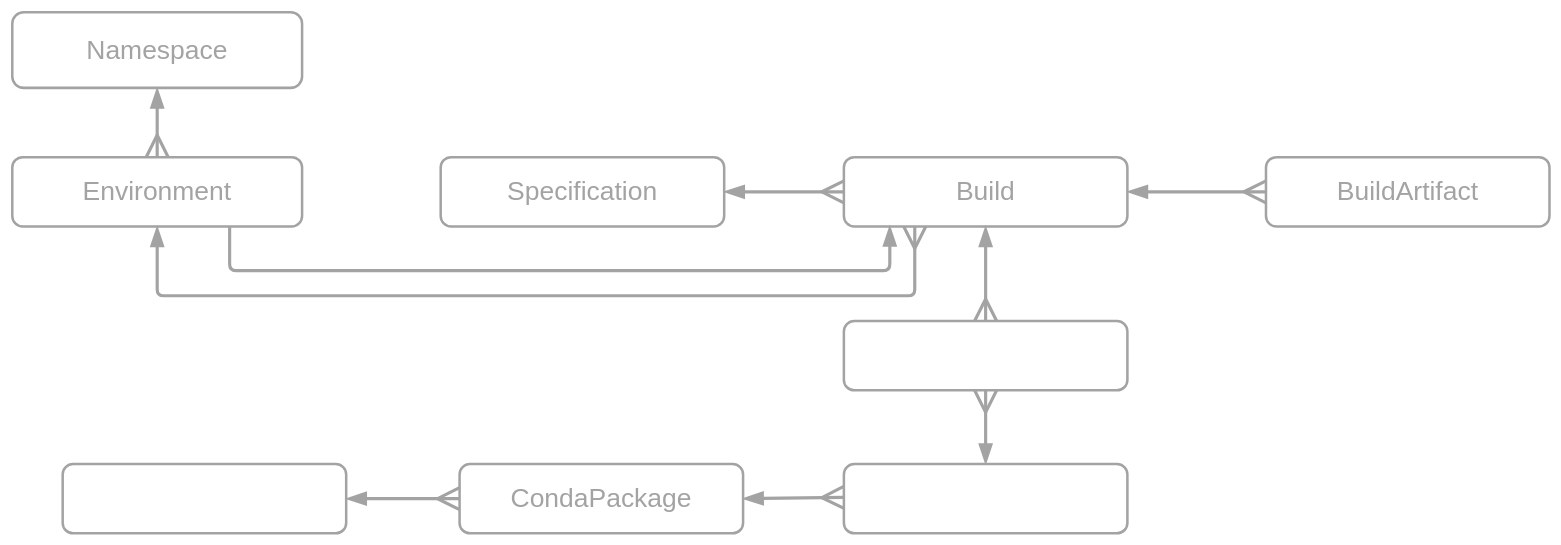
This 1561x545 diagram has some shape labels left out. The shapes that lost their labels are listed below. From the top down, each one's centre as x and y in pixels, then its label:
(985,355): Build_CondaPackage
(204,498): CondaChannel
(985,498): CondaPackageBuild
